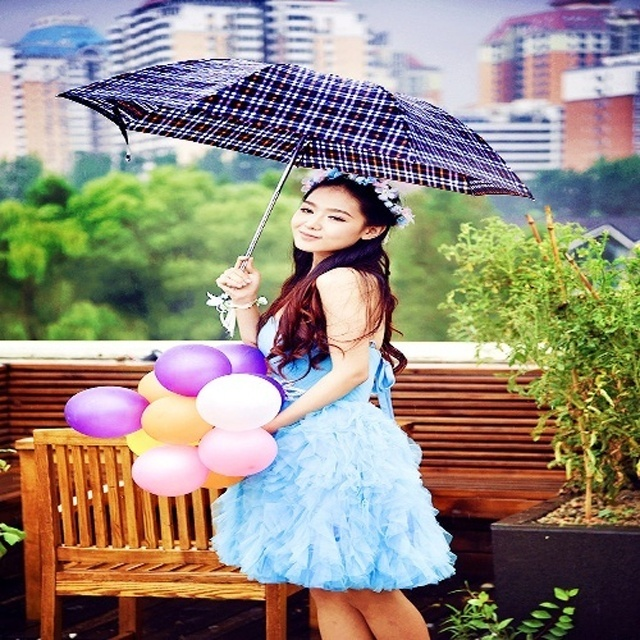person: (197, 171, 464, 640)
umbrella: (50, 52, 539, 294)
